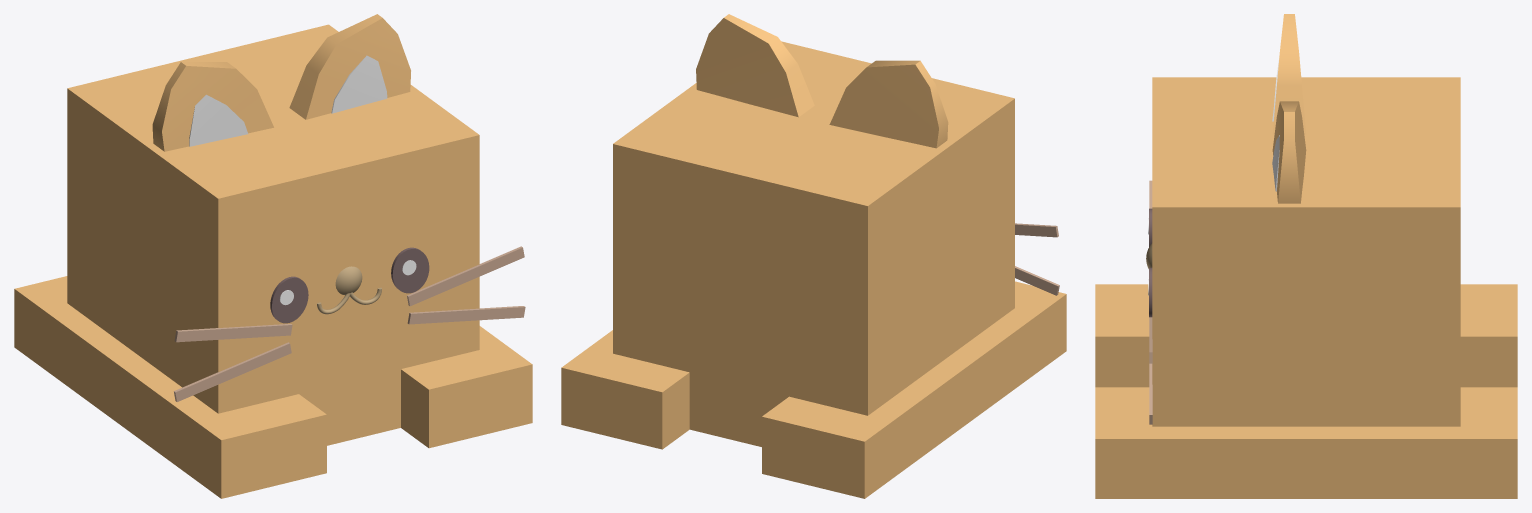
The model's file is cat-with-orange-skin.glb.
3 views of the same model, side by side, from view 1: azimuth 30°, elevation 25°; view 2: azimuth 150°, elevation 25°; view 3: azimuth 270°, elevation 25° (orthographic). The views are drawn at different scales.
Visible parts, largest first — view 1: body_8, cube_12, cube_11, cube_10, cube_1_2, 圆柱_14, nose_16; view 2: body_8, cube_12, cube_10; view 3: body_8, cube_12.
Boxes of the visible parts, <box> form: body_8: <box>14,24,532,498</box>; cube_12: <box>152,14,410,151</box>; cube_11: <box>189,55,387,146</box>; cube_10: <box>174,306,525,401</box>; cube_1_2: <box>174,246,524,342</box>; 圆柱_14: <box>270,247,429,323</box>; nose_16: <box>335,266,362,294</box>; body_8: <box>561,41,1066,498</box>; cube_12: <box>696,14,948,148</box>; cube_10: <box>1015,266,1059,295</box>; body_8: <box>1095,77,1517,498</box>; cube_12: <box>1272,14,1306,203</box>.
Size of the model in its own units: 0.5357 by 0.5138 by 0.5484.
